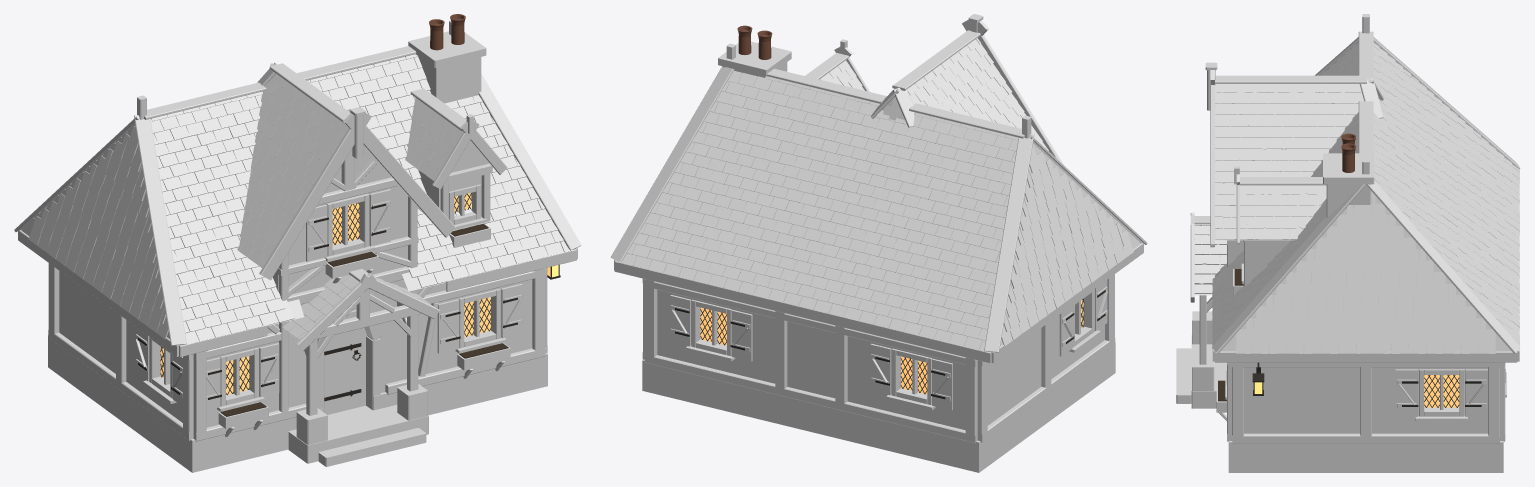
File: SilverbrookCottage3.glb
3 views of the same model, side by side, from view 1: azimuth 30°, elevation 25°; view 2: azimuth 150°, elevation 25°; view 3: azimuth 270°, elevation 25° (orthographic). The views are drawn at different scales.
Visible parts, largest first — view 1: SM_SBCottage3_Roof, SM_SBCottage3_Timber, SM_SBCottage3_Masonry, SM_SBCottage3_Plaster, SM_SBCottage3_Details, SM_SBCottage3_Door1; view 2: SM_SBCottage3_Roof, SM_SBCottage3_Timber, SM_SBCottage3_Masonry, SM_SBCottage3_Plaster, SM_SBCottage3_Details; view 3: SM_SBCottage3_Roof, SM_SBCottage3_Timber, SM_SBCottage3_Masonry, SM_SBCottage3_Plaster, SM_SBCottage3_Details.
Boxes of the visible parts, x1,y1,x2,y2 form: SM_SBCottage3_Roof: (14, 46, 581, 345); SM_SBCottage3_Timber: (18, 20, 577, 441); SM_SBCottage3_Masonry: (48, 31, 547, 472); SM_SBCottage3_Plaster: (59, 140, 532, 427); SM_SBCottage3_Details: (135, 14, 560, 416); SM_SBCottage3_Door1: (323, 327, 366, 414); SM_SBCottage3_Roof: (610, 30, 1147, 352); SM_SBCottage3_Timber: (614, 14, 1143, 443); SM_SBCottage3_Masonry: (642, 41, 1115, 472); SM_SBCottage3_Plaster: (657, 289, 1104, 430); SM_SBCottage3_Details: (670, 25, 1107, 410); SM_SBCottage3_Roof: (1194, 31, 1520, 353); SM_SBCottage3_Timber: (1190, 14, 1519, 443); SM_SBCottage3_Masonry: (1176, 153, 1503, 472); SM_SBCottage3_Plaster: (1232, 228, 1488, 433); SM_SBCottage3_Details: (1218, 133, 1505, 416).
Size of the model in its own units: 7.75 by 5.98 by 5.91.
